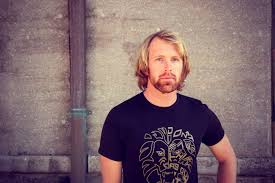T-Shirt_Regular: (95, 84, 229, 182)
